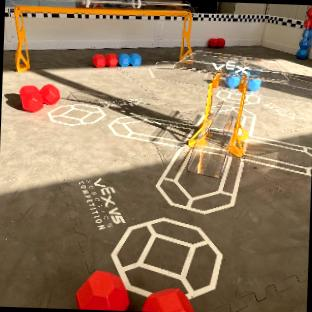V5_BLUE: (118, 53, 140, 65), (248, 79, 261, 90), (227, 76, 240, 86)
V5_RED: (76, 271, 127, 310), (19, 84, 59, 112), (209, 38, 224, 47)
